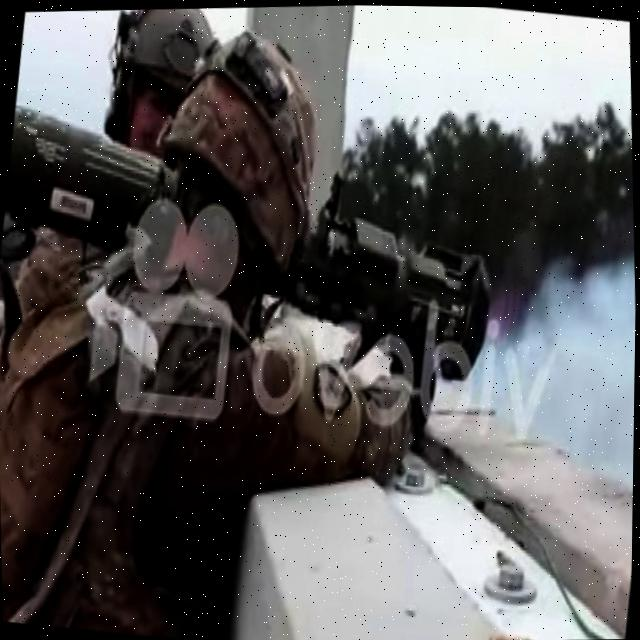rocket: (0, 87, 514, 406)
